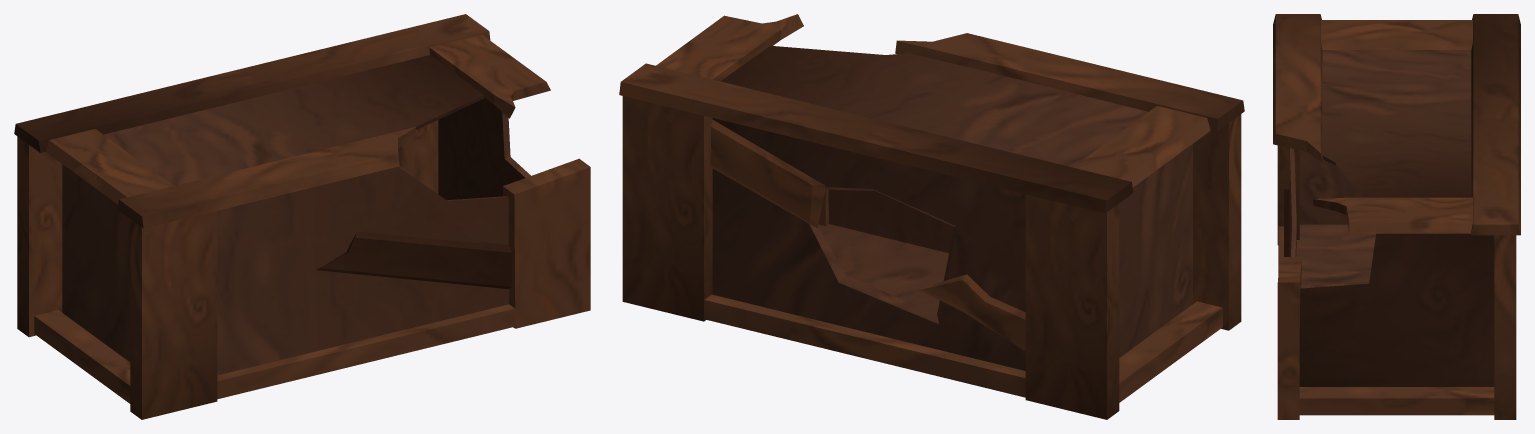
File: Caixa_2_quebrada.glb
The picture shows the model from 3 angles, left to right: view 1: azimuth 30°, elevation 25°; view 2: azimuth 150°, elevation 25°; view 3: azimuth 270°, elevation 25°; orthographic projection. The views are drawn at different scales.
Parts seen in each view (by area): view 1: Caixa.2.quebrada; view 2: Caixa.2.quebrada; view 3: Caixa.2.quebrada.
Boxes of the visible parts, left/top/right/bottom form: Caixa.2.quebrada: left=14, top=14, right=590, bottom=419; Caixa.2.quebrada: left=619, top=14, right=1244, bottom=419; Caixa.2.quebrada: left=1273, top=14, right=1520, bottom=419.
Size of the model in its own units: 1.97 by 0.8524 by 0.9783.
1 material, 1 textured.
